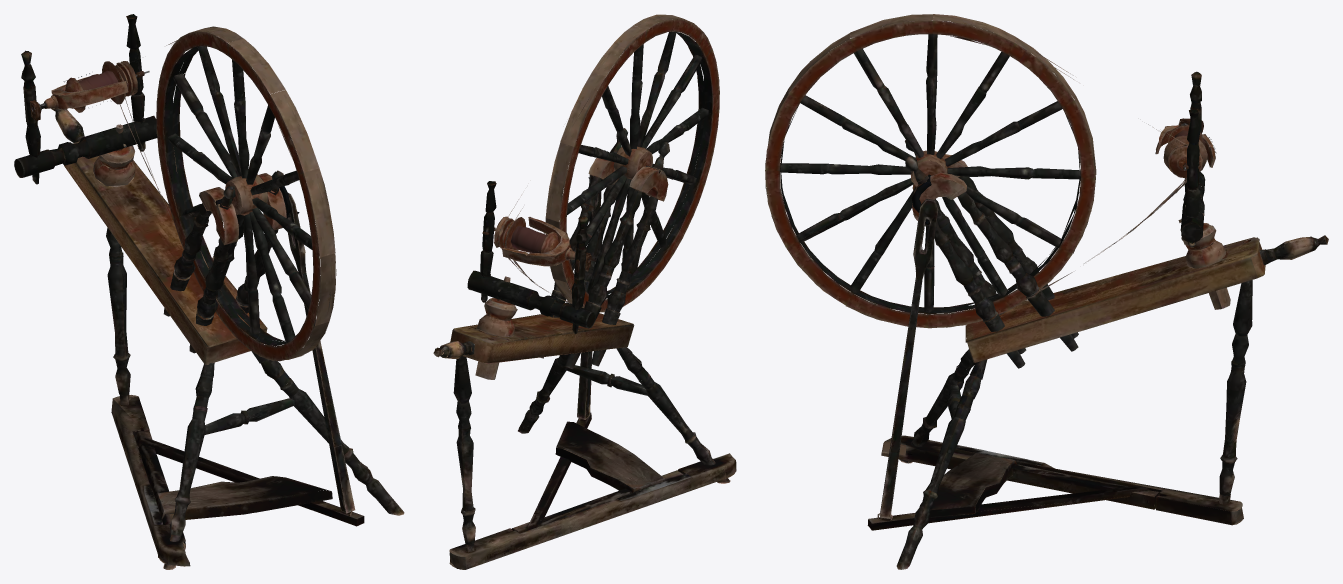
File: spinning_wheel_01.glb
3 views of the same model, side by side, from view 1: azimuth 30°, elevation 25°; view 2: azimuth 150°, elevation 25°; view 3: azimuth 270°, elevation 25° (orthographic). The views are drawn at different scales.
Parts seen in each view (by area): view 1: spinning_wheel_01; view 2: spinning_wheel_01; view 3: spinning_wheel_01.
Boxes of the visible parts, bbox=[...] form: spinning_wheel_01: bbox=[14, 14, 404, 569]; spinning_wheel_01: bbox=[433, 14, 736, 569]; spinning_wheel_01: bbox=[765, 14, 1328, 569].
Size of the model in its own units: 0.4896 by 0.9662 by 1.02.
1 material, 1 textured.
